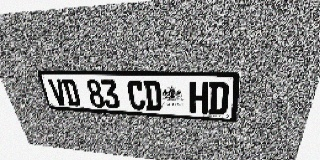3: (100, 80, 120, 109)
8: (85, 79, 106, 108)
C: (126, 80, 146, 110)
D: (208, 82, 229, 115), (143, 80, 162, 111), (61, 79, 82, 106)
H: (190, 81, 209, 114)
V: (48, 79, 68, 106)
